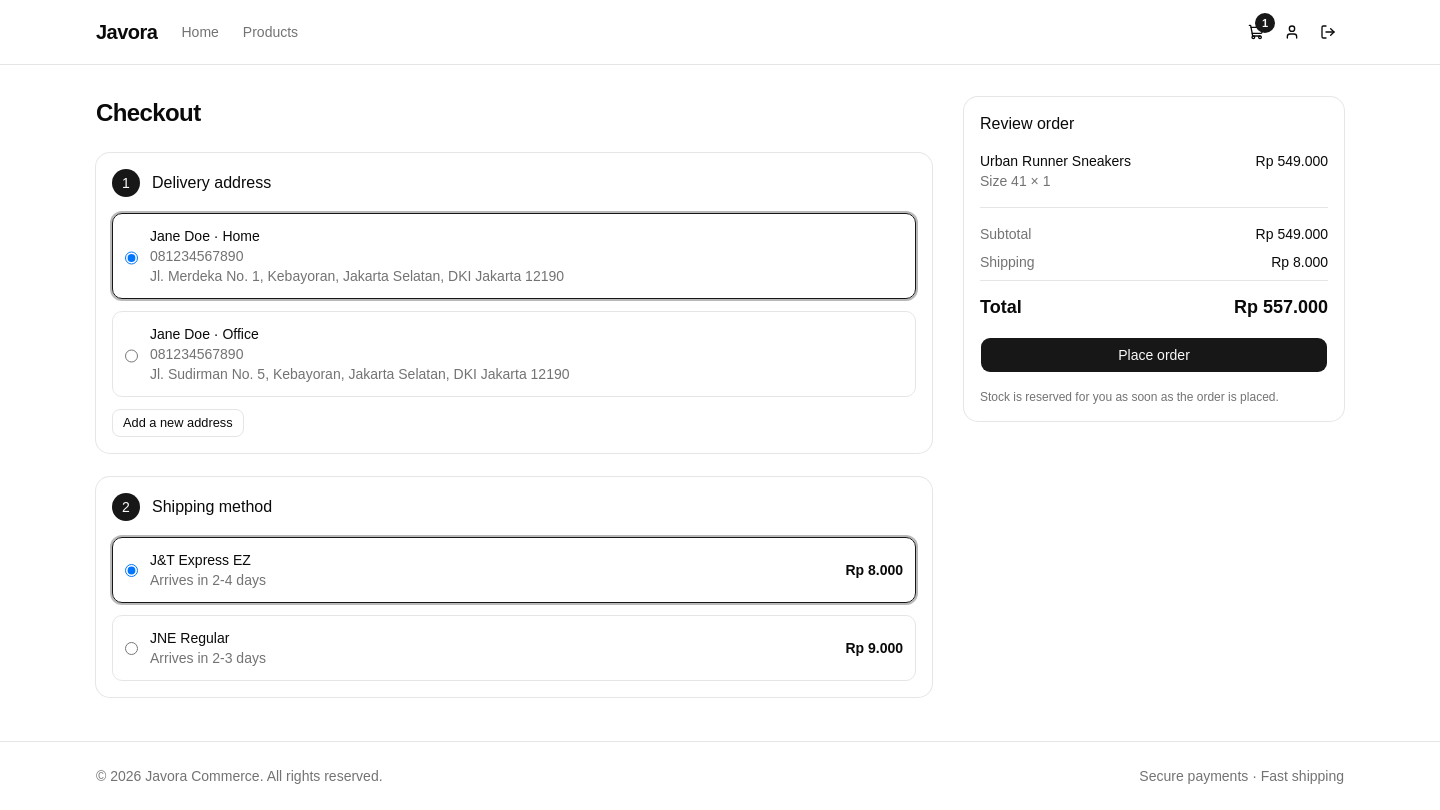
Scenario: checkout › recalculates the total when another shipping method is chosen
What coordinates should you click on to do the following:
click the radio button labelled "JNE Regular Arrives in 2-3 days Rp 9.000"
I would click on:
 (132, 648)
Its box is [125,642,138,654].
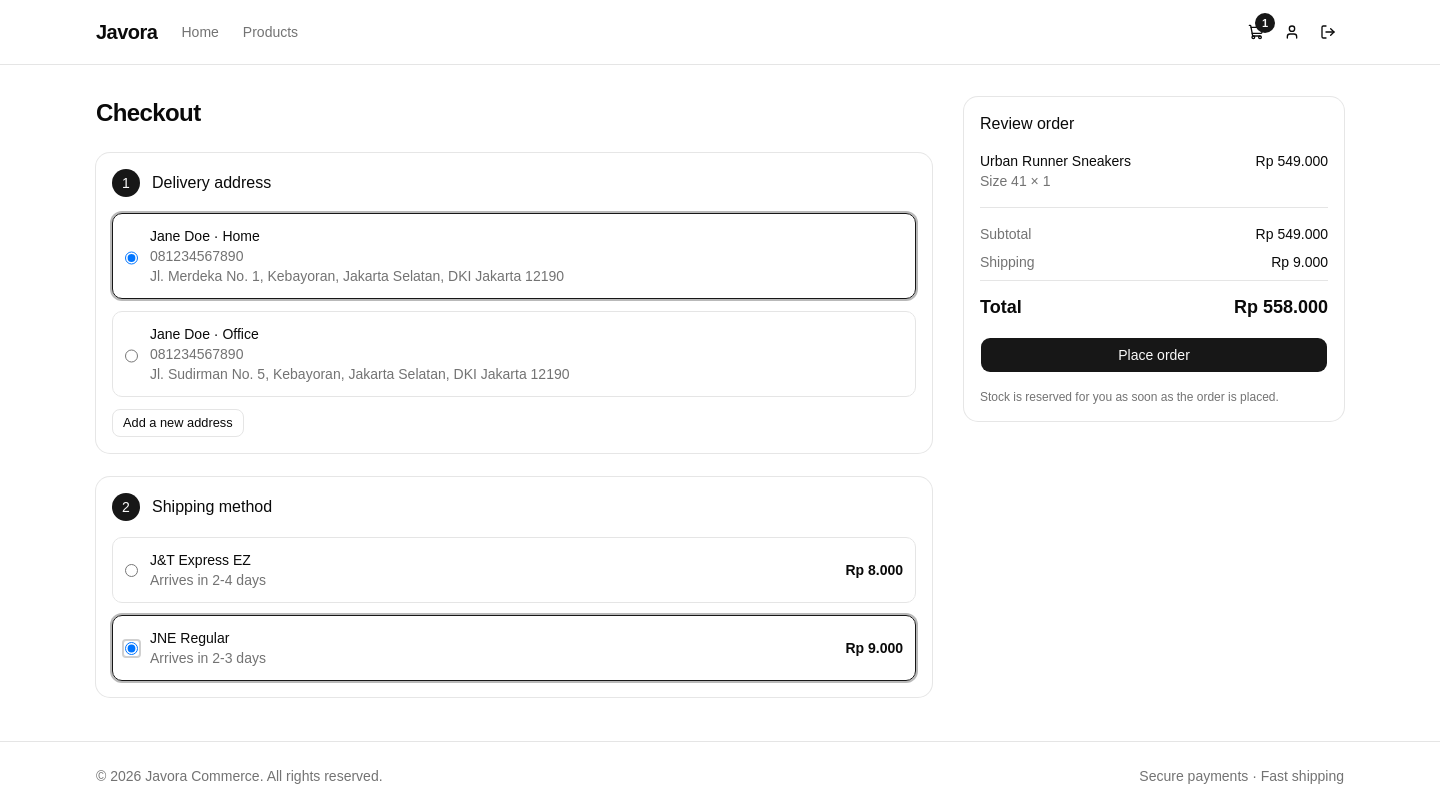
Expected: the text "Rp 558.000" is shown, [1234,293,1328,321]
